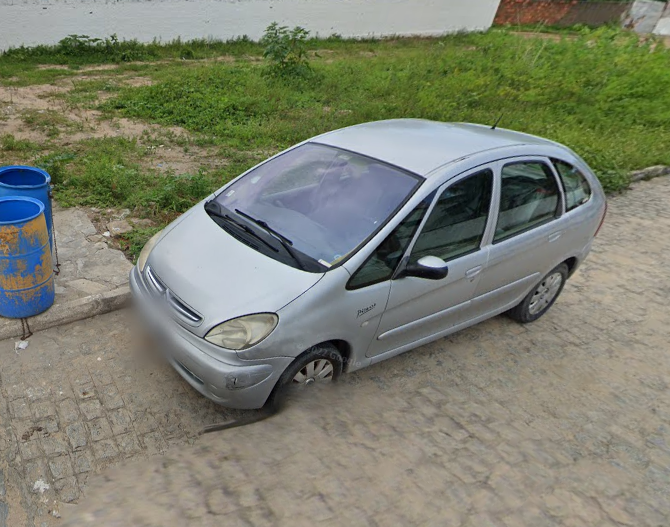car: (126, 112, 609, 413)
